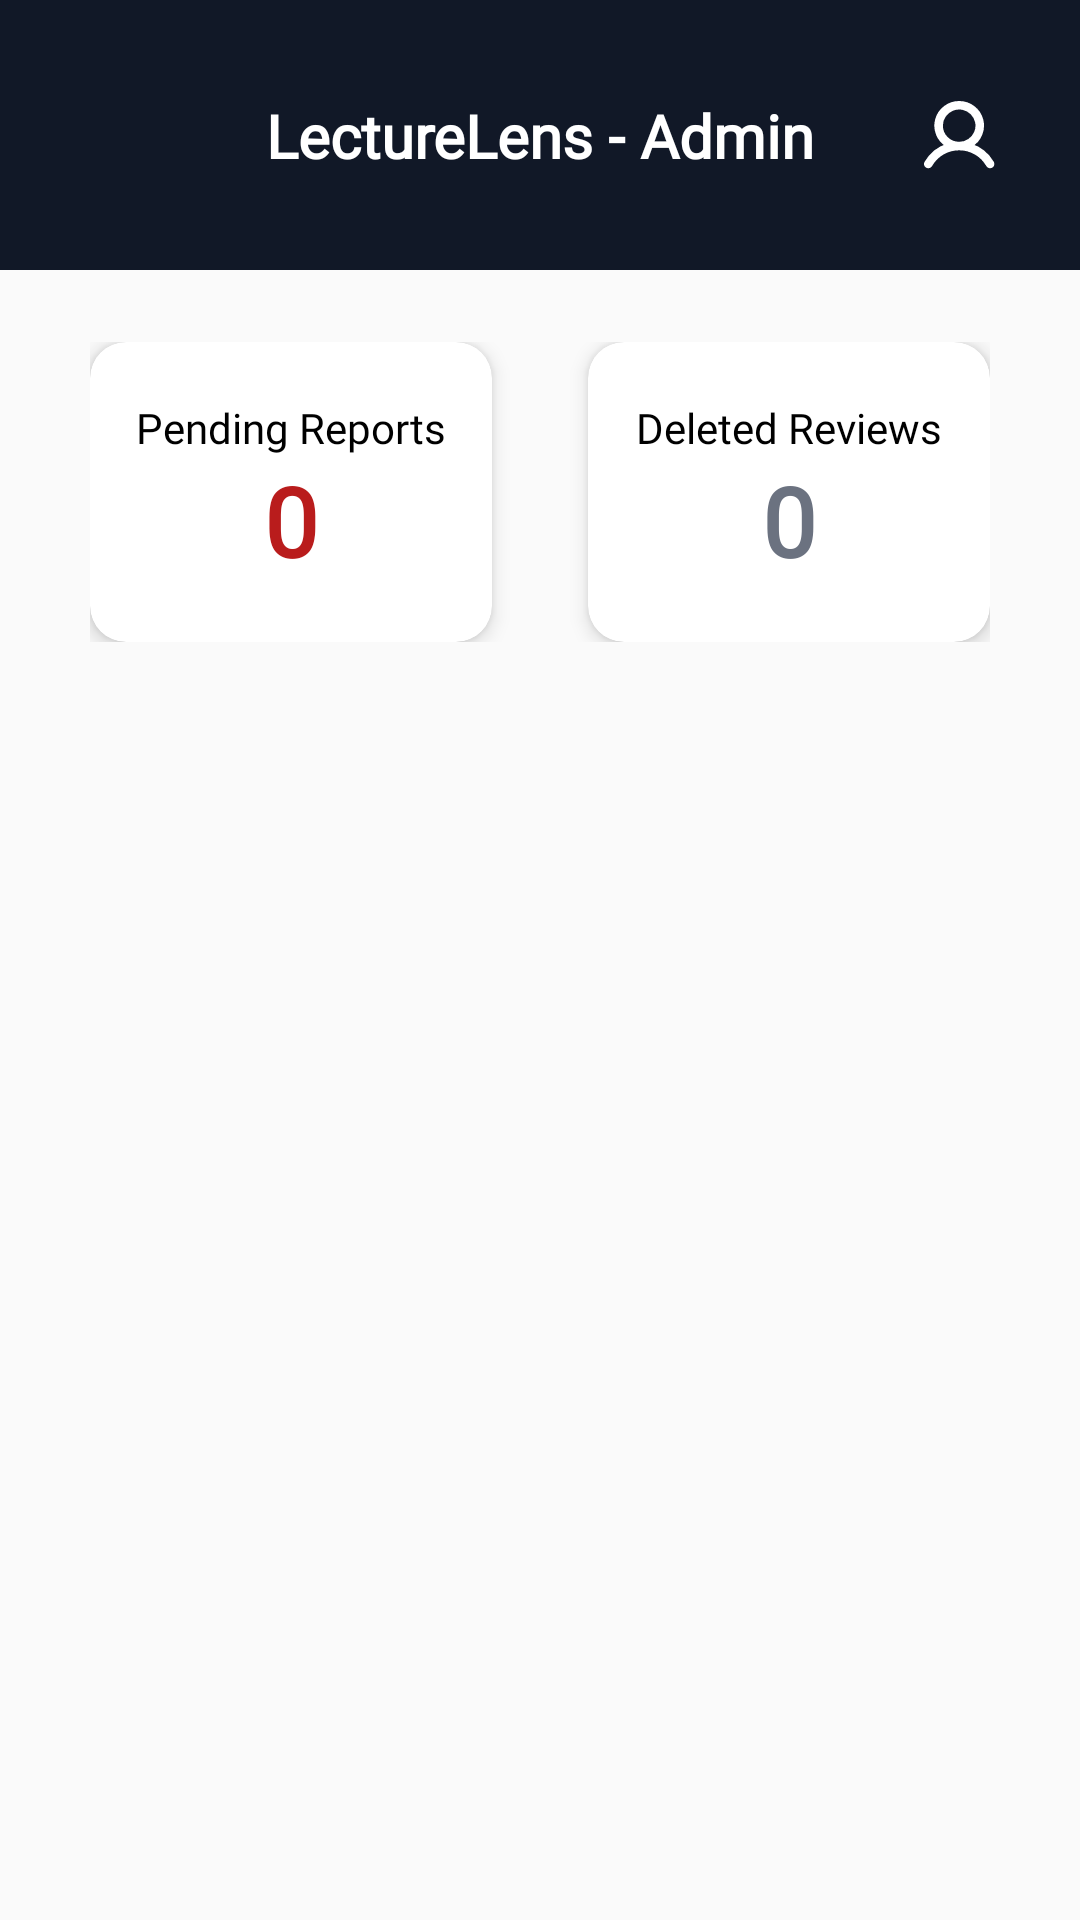

Icons on this 1080 × 1920 Android screen, each with the point to tap as [x,y]:
profile: [959,135]
